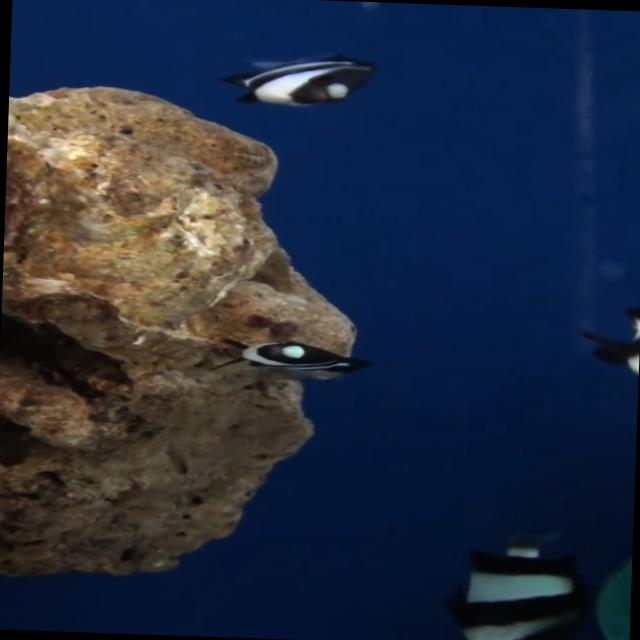ThreeStripedDamselfish: (457, 549, 583, 640), (218, 54, 376, 108), (209, 339, 368, 380)
